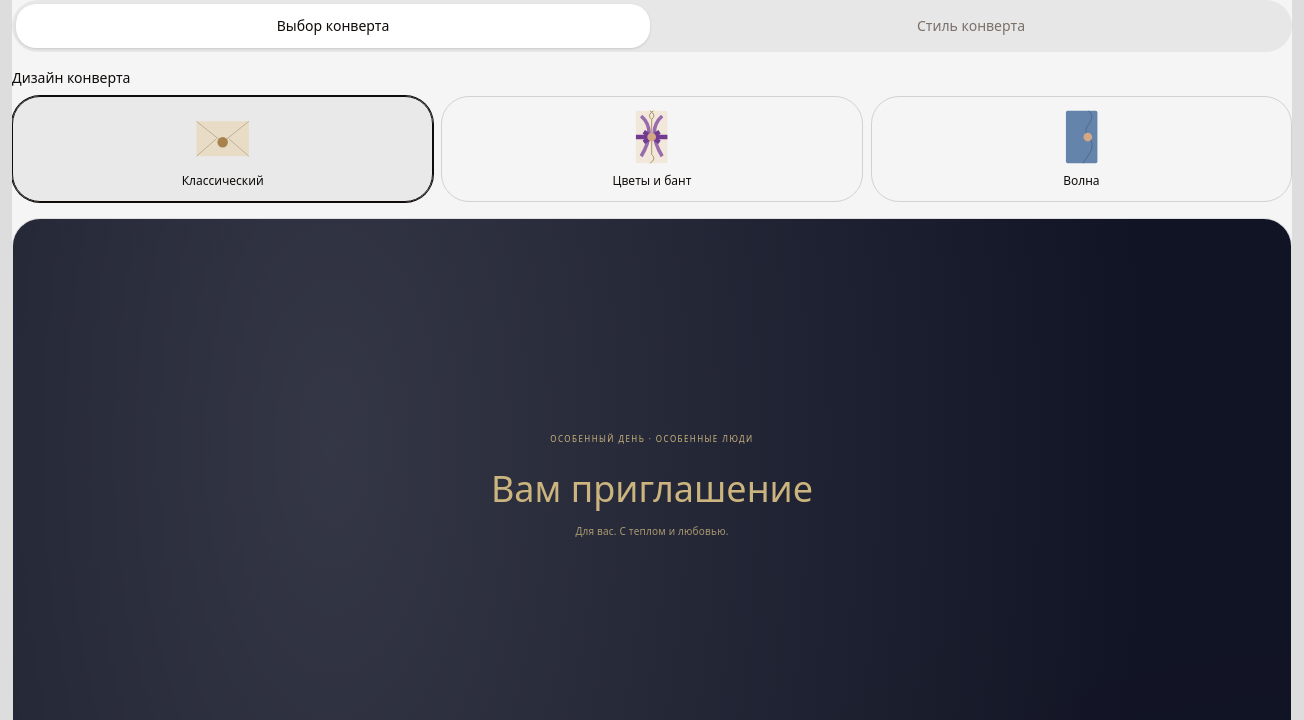
Test: редактор конверта › делится на «Выбор конверта» и «Стиль конверта»
The image size is (1304, 720).
Check: the button "Классический" is shown, box [12, 96, 433, 202]
Check: the text "Вернуть цвета дизайна" is not shown
Click the tab "Стиль конверта". click: (971, 26)
box: [654, 4, 1288, 48]
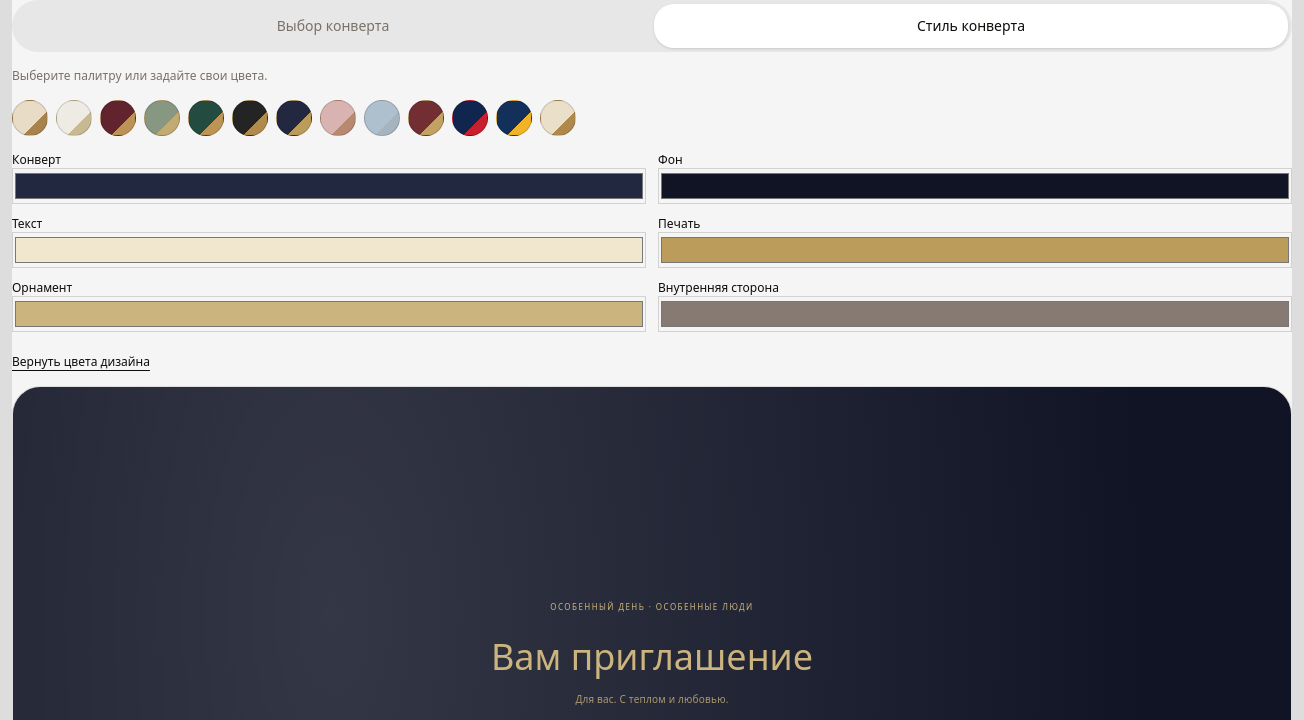
Check: the button "Вернуть цвета дизайна" is shown, box [12, 354, 150, 370]
Check: the button "Классический" is gone
